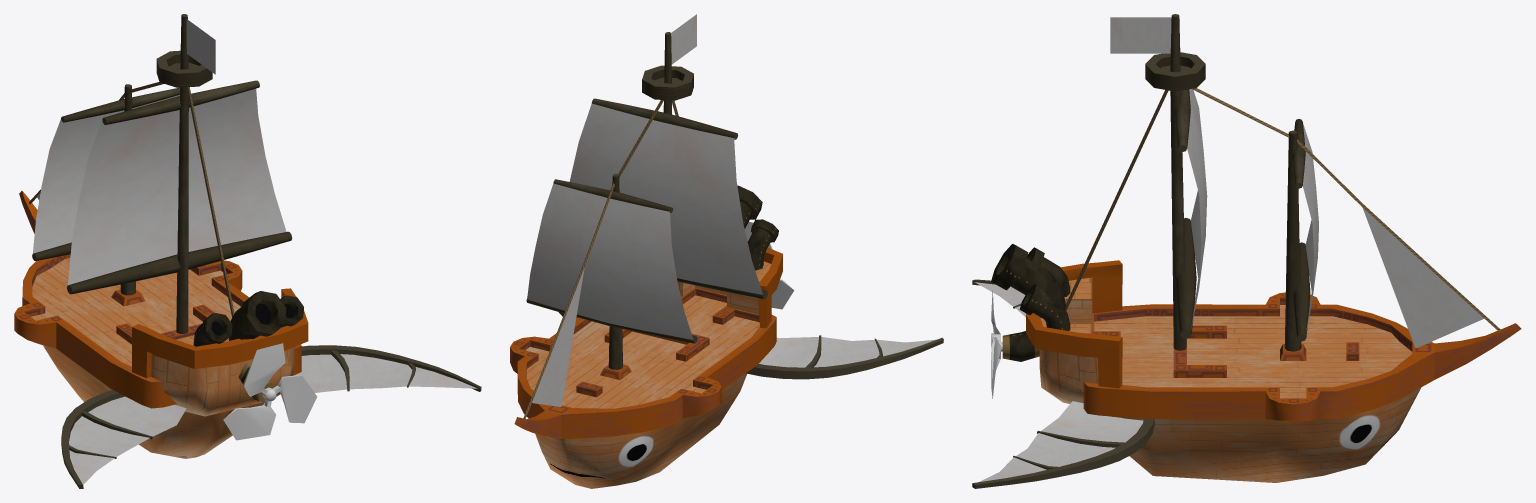
File: navire.fbx
The picture shows the model from 3 angles, left to right: view 1: azimuth 30°, elevation 25°; view 2: azimuth 150°, elevation 25°; view 3: azimuth 270°, elevation 25°; orthographic projection. The views are drawn at different scales.
Parts seen in each view (by area): view 1: M_grande_voile_carree, M_coque, M_coque_arriere, M_sol1, M_petite_voile_carree, M_helice, M_grande_vergue_basse, M_grande_mat_baton, M_aileG_toile03, M_chemineegrosse, M_aileD_toile02, M_aileG_toile02 (+13 smaller); view 2: M_grande_voile_carree, M_coque, M_petite_voile_carree, M_sol1, M_voile_triangle, M_coque_arriere, M_aileG_grandbras, M_vigie, M_aileG_toile02, M_aileG_toile03, M_grande_vergue_haute, M_chemineeG (+10 smaller); view 3: M_coque, M_sol1, M_coque_arriere, M_voile_triangle, M_grande_mat_baton, M_petitemat_baton, M_aileD_toile03, M_grande_voile_carree, M_drapeau, M_aileD_grandbras, M_chemineegrosse, M_vigie (+14 smaller).
Part boxes in pixels (x1,y1,x2,y2): M_grande_voile_carree: (68, 88, 286, 285); M_coque: (14, 191, 301, 458); M_coque_arriere: (132, 288, 308, 416); M_sol1: (31, 258, 240, 366); M_petite_voile_carree: (33, 95, 179, 253); M_helice: (223, 343, 317, 440); M_grande_vergue_basse: (67, 231, 292, 294); M_grande_mat_baton: (176, 14, 188, 333); M_aileG_toile03: (88, 396, 186, 436); M_chemineegrosse: (229, 291, 286, 340); M_aileD_toile02: (340, 354, 412, 389); M_aileG_toile02: (69, 416, 149, 456); M_grande_voile_carree: (569, 103, 762, 294); M_coque: (510, 287, 776, 488); M_petite_voile_carree: (527, 183, 693, 339); M_sol1: (525, 295, 759, 408); M_voile_triangle: (532, 268, 584, 406); M_coque_arriere: (677, 241, 782, 328); M_aileG_grandbras: (746, 337, 943, 379); M_vigie: (642, 65, 693, 100); M_aileG_toile02: (814, 337, 879, 367); M_aileG_toile03: (759, 337, 818, 367); M_grande_vergue_haute: (592, 98, 737, 139); M_chemineeG: (747, 219, 778, 270); M_coque: (1083, 292, 1521, 482); M_sol1: (1094, 305, 1412, 398); M_coque_arriere: (1026, 260, 1122, 403); M_voile_triangle: (1362, 207, 1483, 347); M_grande_mat_baton: (1170, 14, 1186, 350); M_petitemat_baton: (1284, 130, 1301, 351); M_aileD_toile03: (1041, 401, 1143, 442); M_grande_voile_carree: (1187, 89, 1207, 330); M_drapeau: (1110, 17, 1171, 53); M_aileD_grandbras: (972, 418, 1154, 488); M_chemineegrosse: (991, 244, 1065, 317); M_vigie: (1145, 52, 1205, 91).
Size of the model in its own units: 183 by 192 by 207.
